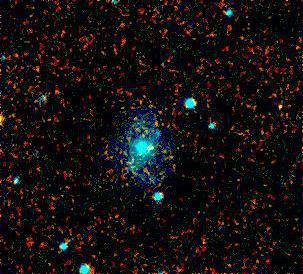star: (0, 100, 17, 130)
